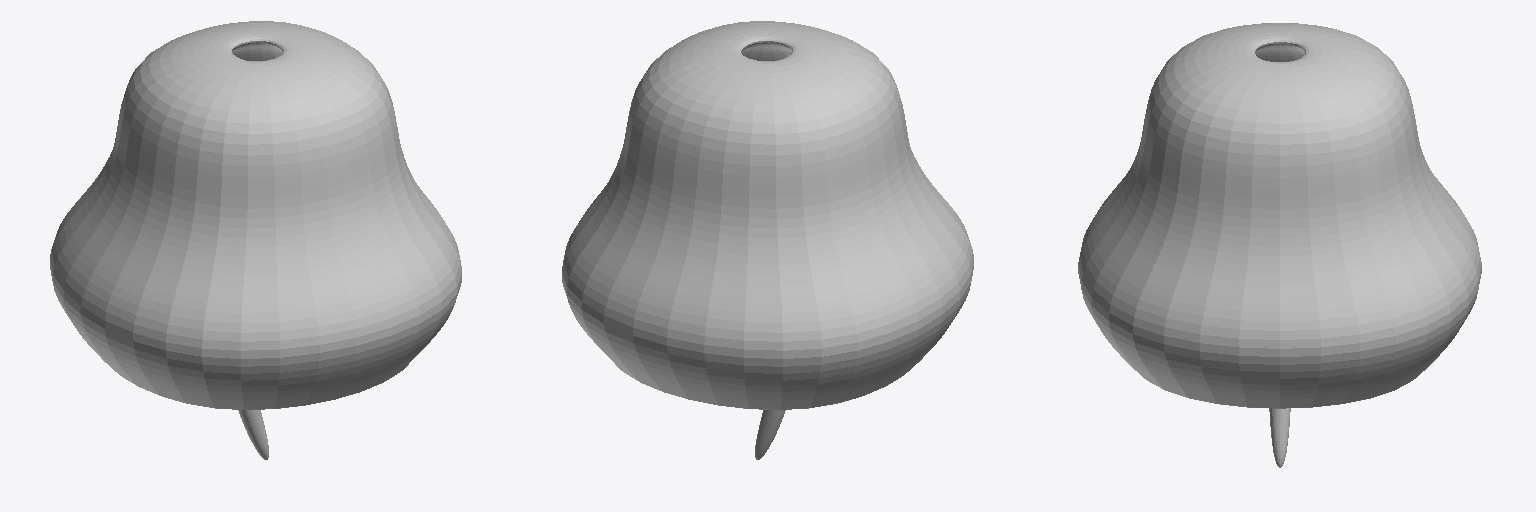
File: manowar.obj
The picture shows the model from 3 angles: view 1: azimuth 30°, elevation 25°; view 2: azimuth 150°, elevation 25°; view 3: azimuth 270°, elevation 25°; orthographic projection.
Bounding box in the file's own units: 20.27 × 22.88 × 20.27.